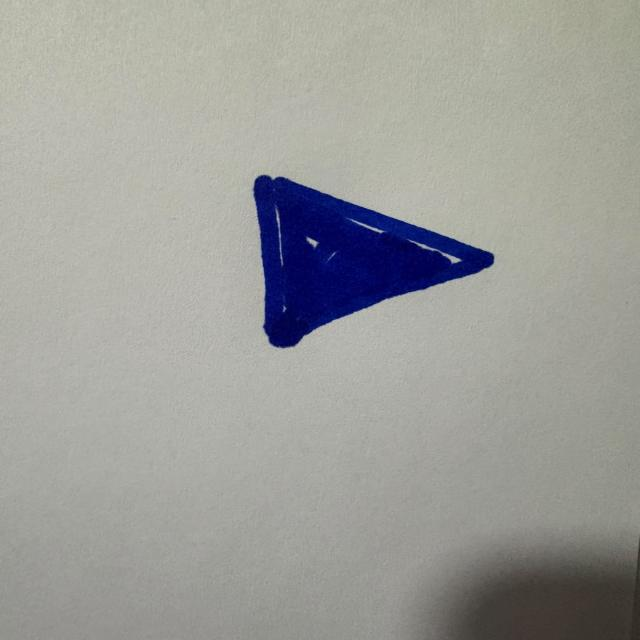Triangle: (253, 176, 493, 348)
